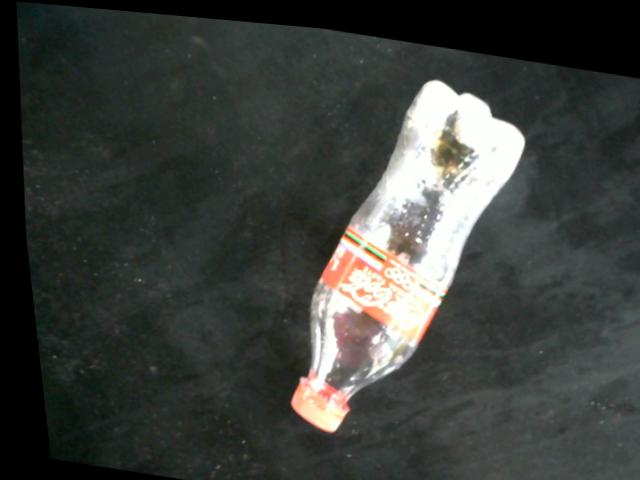bottle: (279, 70, 523, 430)
